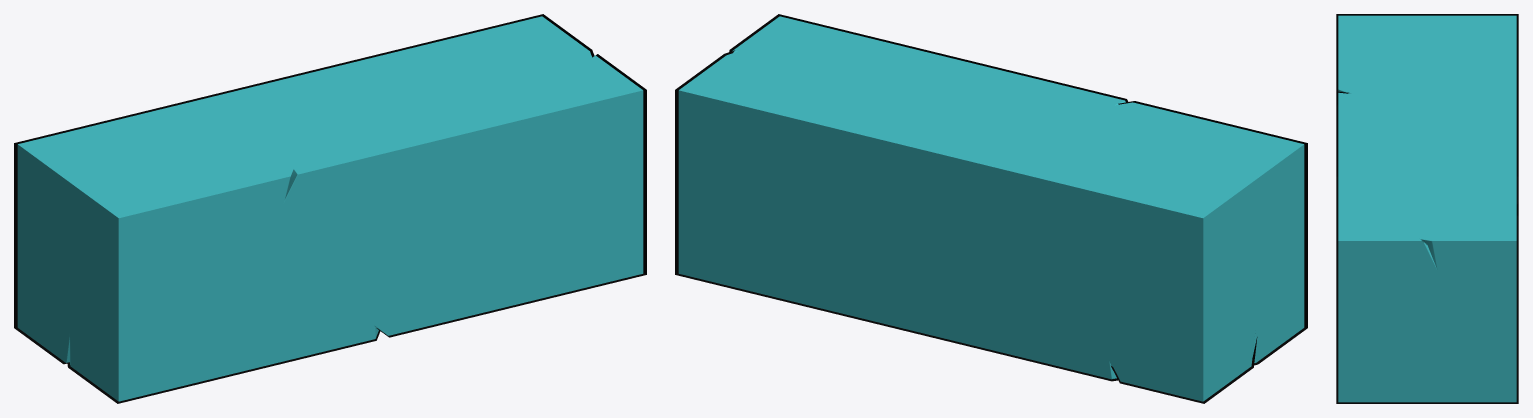
Rendered from Cubo Pesado.fbx.
The picture shows the model from 3 angles, left to right: view 1: azimuth 30°, elevation 25°; view 2: azimuth 150°, elevation 25°; view 3: azimuth 270°, elevation 25°; orthographic projection. The views are drawn at different scales.
Visible parts, largest first — view 1: Rectangulo, LineArt; view 2: Rectangulo, LineArt; view 3: Rectangulo, LineArt.
Part boxes in pixels (box(x1,y1,x2,y2)): Rectangulo: box(17, 16, 643, 401); LineArt: box(14, 14, 646, 403); Rectangulo: box(678, 16, 1304, 401); LineArt: box(675, 14, 1307, 403); Rectangulo: box(1338, 15, 1516, 402); LineArt: box(1336, 14, 1518, 403).
Bounding box in the file's own units: 3.02 × 1.01 × 1.02.
